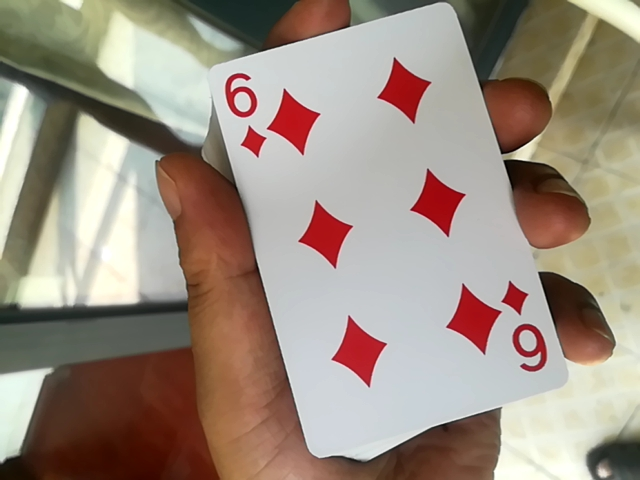fk 6: (206, 9, 556, 460)
